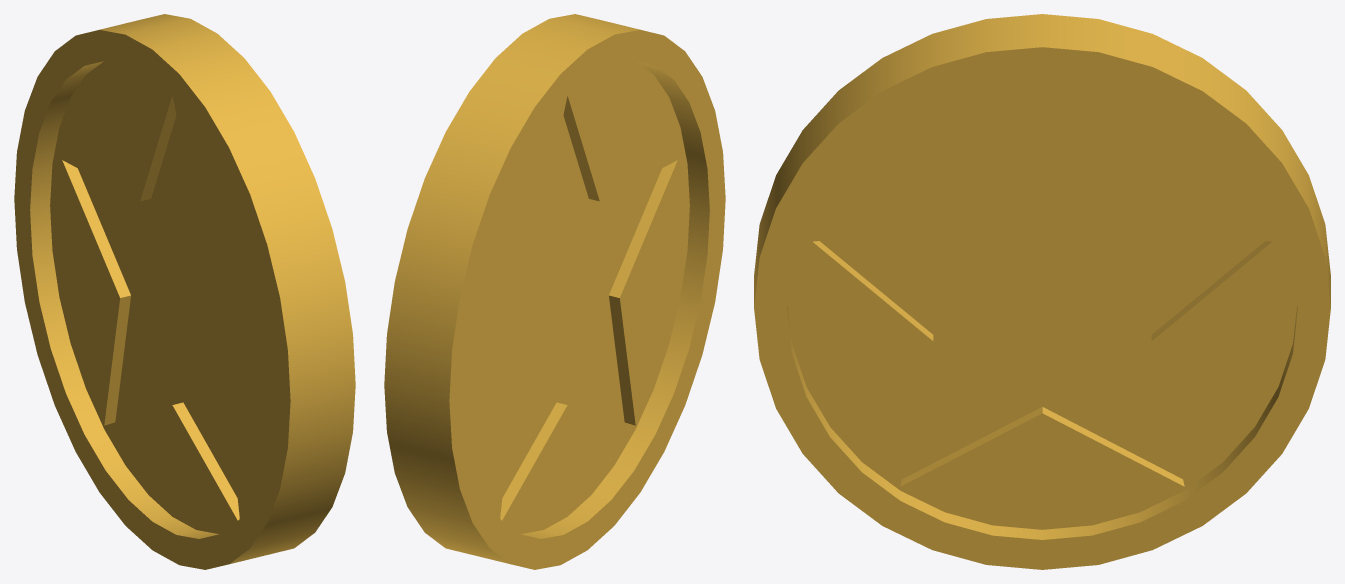
Rendered from Coin.fbx.
3 views of the same model, side by side, from view 1: azimuth 30°, elevation 25°; view 2: azimuth 150°, elevation 25°; view 3: azimuth 270°, elevation 25° (orthographic). The views are drawn at different scales.
Parts seen in each view (by area): view 1: Moneda; view 2: Moneda; view 3: Moneda.
Boxes of the visible parts, bbox=[...] form: Moneda: bbox=[14, 14, 355, 569]; Moneda: bbox=[384, 14, 725, 569]; Moneda: bbox=[754, 14, 1330, 569].
Bounding box in the file's own units: 17.91 × 132 × 132.
